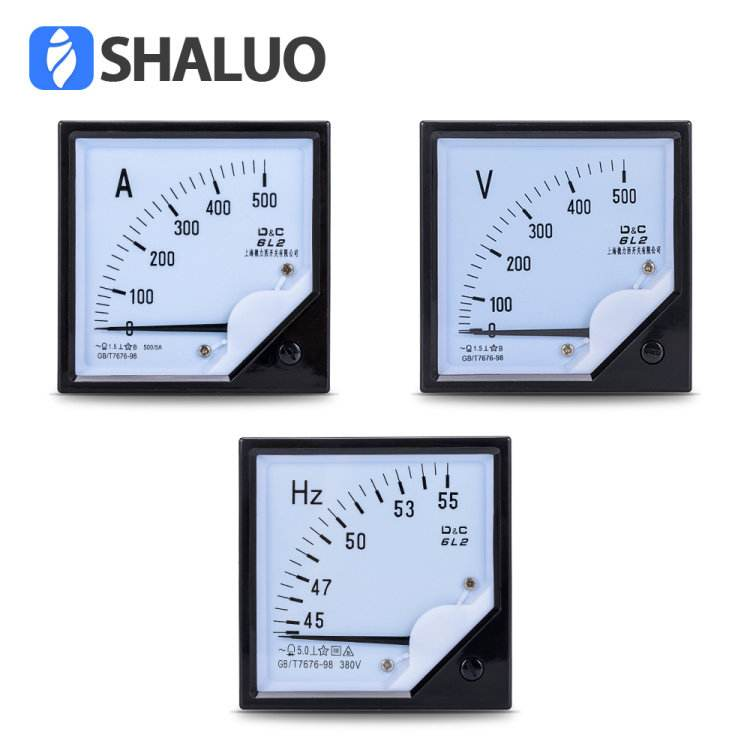pointer: (436, 132, 676, 380), (72, 133, 312, 377)
